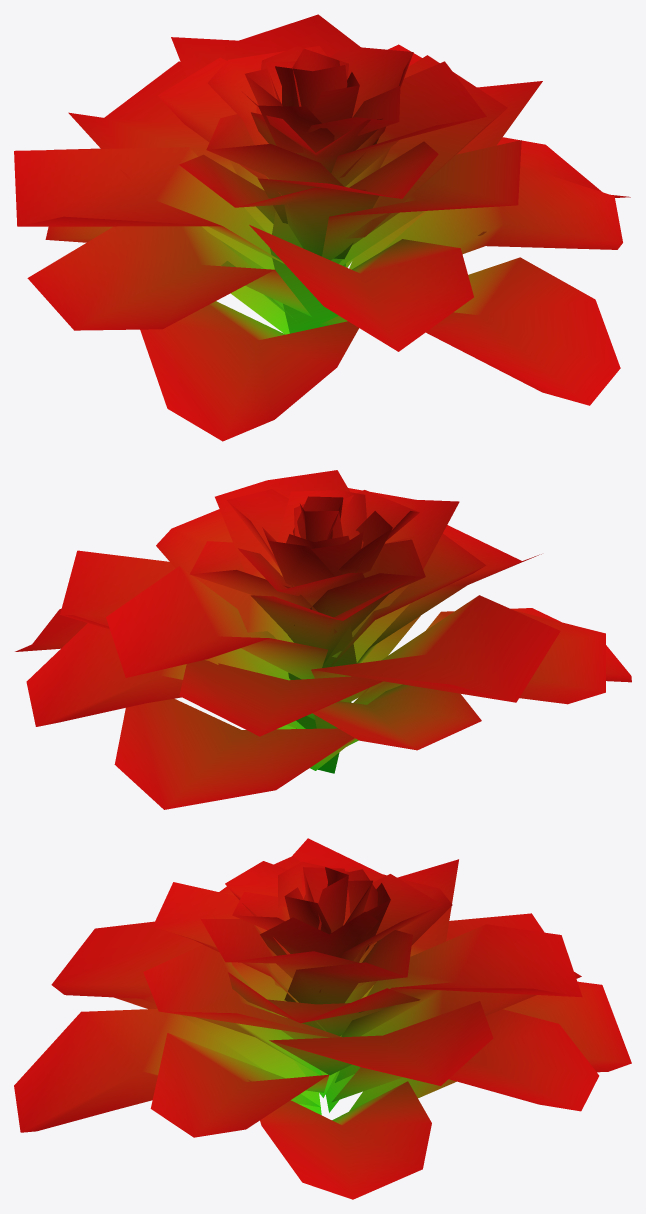
The model's file is Purple Ornamental Kale_LOD5_Var4_ugdieawja.fbx.
The picture shows the model from 3 angles, top to bottom: view 1: azimuth 30°, elevation 25°; view 2: azimuth 150°, elevation 25°; view 3: azimuth 270°, elevation 25°; orthographic projection. The views are drawn at different scales.
Parts seen in each view (by area): view 1: _3686_Var4_LOD5; view 2: _3686_Var4_LOD5; view 3: _3686_Var4_LOD5.
Part boxes in pixels (bbox=[...]): _3686_Var4_LOD5: bbox=[14, 14, 630, 441]; _3686_Var4_LOD5: bbox=[15, 470, 631, 809]; _3686_Var4_LOD5: bbox=[14, 838, 631, 1199].
Size of the model in its own units: 52.22 by 25.35 by 53.97.
